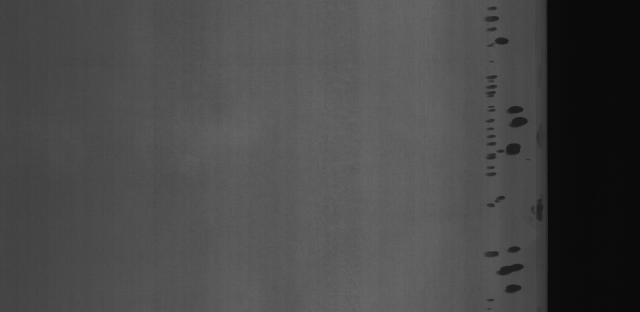oil_spot: (479, 75, 528, 183), (476, 242, 530, 300), (480, 5, 514, 61), (484, 193, 505, 214)
